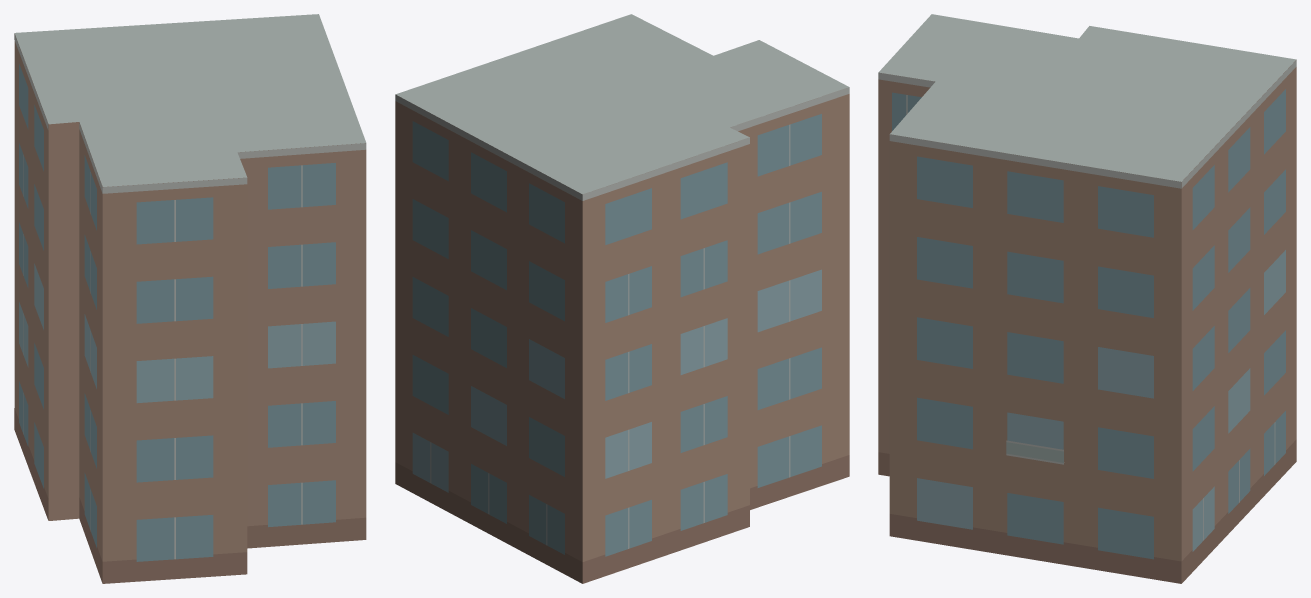
The model's file is survey-upis-32874353.glb.
3 views of the same model, side by side, from view 1: azimuth 30°, elevation 25°; view 2: azimuth 150°, elevation 25°; view 3: azimuth 270°, elevation 25° (orthographic). The views are drawn at different scales.
Visible parts, largest first — view 1: survey-upis-32874353.tmp; view 2: survey-upis-32874353.tmp; view 3: survey-upis-32874353.tmp.
Boxes of the visible parts, box(x1,y1,x2,y2) form: survey-upis-32874353.tmp: box(14, 14, 366, 583); survey-upis-32874353.tmp: box(395, 14, 849, 583); survey-upis-32874353.tmp: box(878, 14, 1296, 583).
Size of the model in its own units: 12.86 by 14.35 by 13.54.
